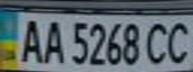2: (87, 19, 109, 66)
5: (66, 18, 90, 66)
6: (103, 20, 127, 66)
8: (121, 19, 145, 66)
A: (15, 15, 45, 64), (39, 16, 66, 65)
C: (142, 19, 172, 66), (163, 18, 193, 65)
